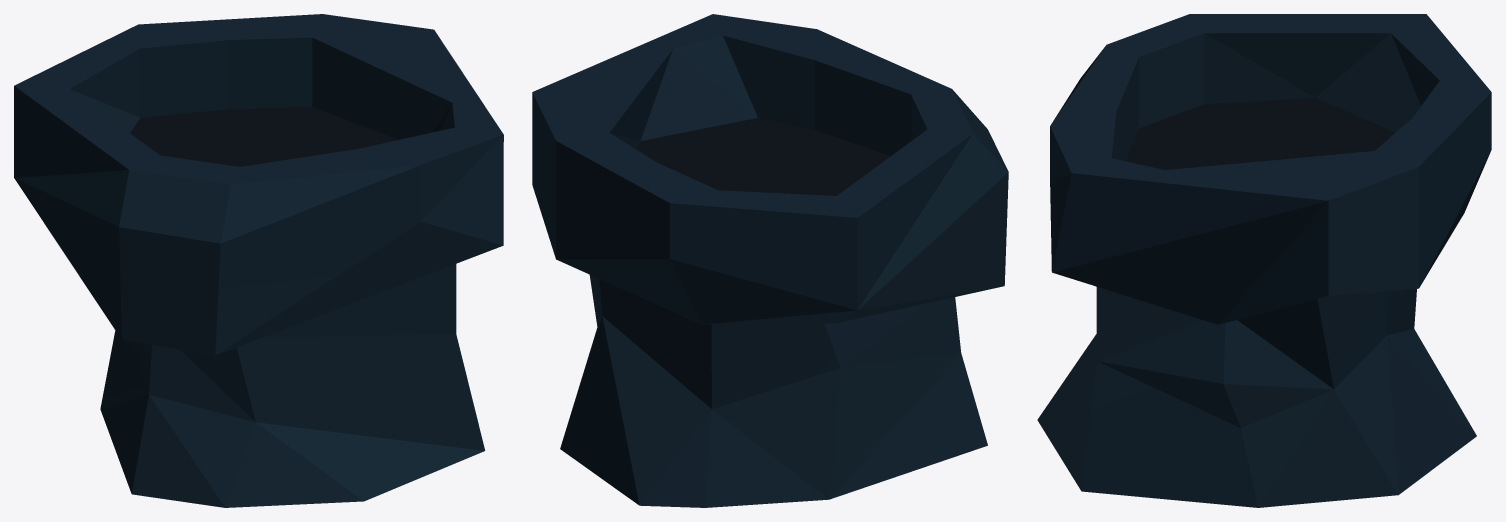
File: Bag.fbx
3 renders of one model, left to right at view 1: azimuth 30°, elevation 25°; view 2: azimuth 150°, elevation 25°; view 3: azimuth 270°, elevation 25°, orthographic. The views are drawn at different scales.
Parts seen in each view (by area): view 1: Bag; view 2: Bag; view 3: Bag.
Part boxes in pixels (bbox=[...]): Bag: bbox=[14, 14, 503, 507]; Bag: bbox=[532, 14, 1008, 507]; Bag: bbox=[1037, 14, 1491, 507].
Bounding box in the file's own units: 16.24 × 12.42 × 15.72.
